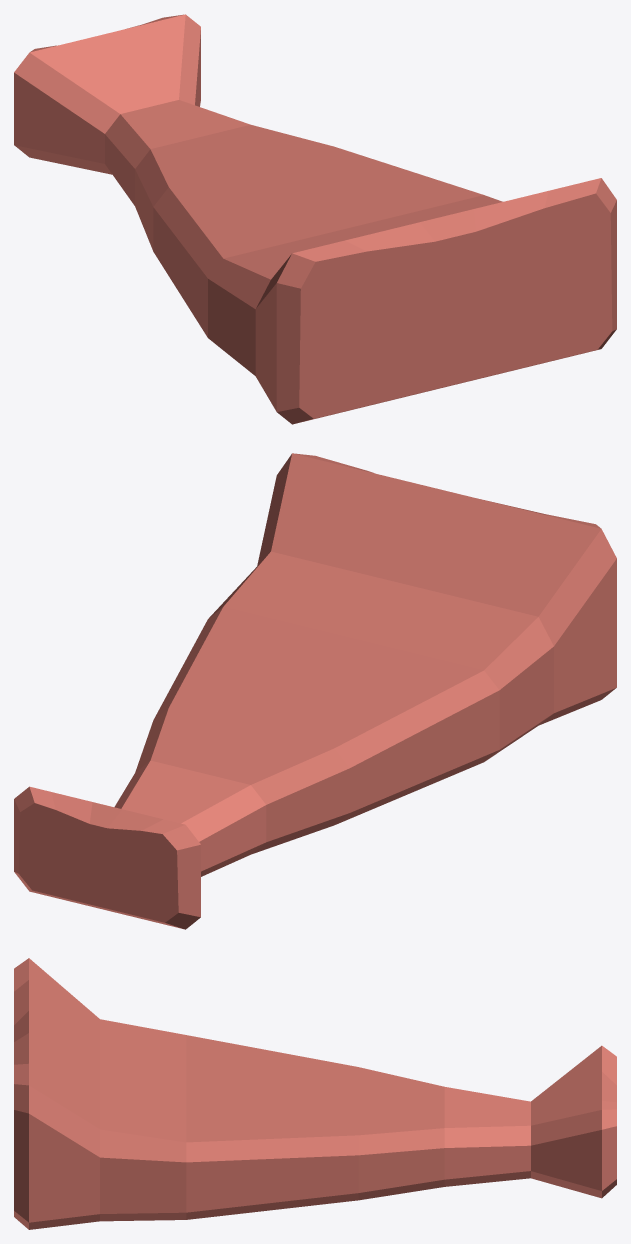
The model's file is calder_medium_c.glb.
3 views of the same model, one above another, from view 1: azimuth 30°, elevation 25°; view 2: azimuth 150°, elevation 25°; view 3: azimuth 270°, elevation 25° (orthographic). The views are drawn at different scales.
Visible parts, largest first — view 1: calder_medium_c; view 2: calder_medium_c; view 3: calder_medium_c.
Part boxes in pixels (box(x1,y1,x2,y2)): calder_medium_c: box(14, 14, 616, 424); calder_medium_c: box(14, 453, 616, 929); calder_medium_c: box(14, 958, 616, 1229).
Bounding box in the file's own units: 3.3 × 1.59 × 6.
